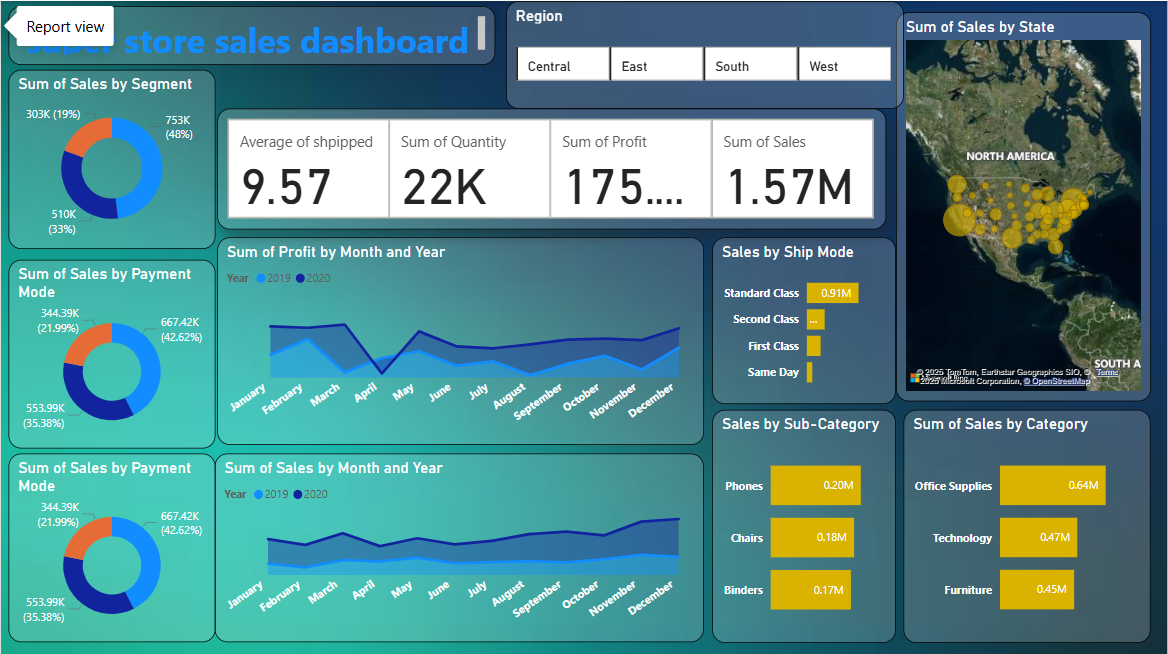

The page's visual inventory and layout, read from the dashboard file:
{"tool":"powerbi","page":{"name":"Page 1","canvas":[1280,720],"ordinal":0},"visuals":[{"type":"clusteredBarChart","title":"Sales by Sub-Category","fields":{"Category":["SuperStore_Sales_Dataset.Sub-Category"],"Y":["Sum(SuperStore_Sales_Dataset.Sales)"]},"box":[780.6,448.8,201.5,255.8],"z":0},{"type":"clusteredBarChart","fields":{"Y":["Sum(SuperStore_Sales_Dataset.Sales)"],"Category":["SuperStore_Sales_Dataset.Category"]},"box":[990.5,448.8,271.4,255.8],"z":1000},{"type":"donutChart","fields":{"Y":["Sum(SuperStore_Sales_Dataset.Sales)"],"Category":["SuperStore_Sales_Dataset.Segment"]},"box":[8.4,74.8,226.8,196.6],"z":2000},{"type":"clusteredBarChart","title":"Sales by Ship Mode","fields":{"Y":["Sum(SuperStore_Sales_Dataset.Sales)"],"Category":["SuperStore_Sales_Dataset.Ship Mode"]},"box":[780.6,259.4,201.5,183.4],"z":3000},{"type":"donutChart","fields":{"Y":["Sum(SuperStore_Sales_Dataset.Sales)"],"Category":["SuperStore_Sales_Dataset.Payment Mode"]},"box":[8.4,283.5,226.8,207.5],"z":4000},{"type":"map","fields":{"Category":["SuperStore_Sales_Dataset.State"],"Size":["Sum(SuperStore_Sales_Dataset.Sales)"]},"box":[982,12.1,279.9,427.1],"z":5000},{"type":"advancedSlicerVisual","fields":{"Values":["SuperStore_Sales_Dataset.Region"]},"box":[553.8,0,436.7,118.2],"z":6000},{"type":"stackedAreaChart","fields":{"Y":["Sum(SuperStore_Sales_Dataset.Sales)"],"Category":["SuperStore_Sales_Dataset.Order Date.Variation.Date Hierarchy.Month","SuperStore_Sales_Dataset.Order Date.Variation.Date Hierarchy.Day"],"Series":["SuperStore_Sales_Dataset.Order Date.Variation.Date Hierarchy.Year"]},"box":[235.3,497.1,536.9,207.5],"z":7000},{"type":"stackedAreaChart","fields":{"Category":["SuperStore_Sales_Dataset.Order Date.Variation.Date Hierarchy.Month","SuperStore_Sales_Dataset.Order Date.Variation.Date Hierarchy.Day"],"Series":["SuperStore_Sales_Dataset.Order Date.Variation.Date Hierarchy.Year"],"Y":["Sum(SuperStore_Sales_Dataset.Profit)"]},"box":[237.7,259.4,534.5,228],"z":8000},{"type":"cardVisual","fields":{"Data":["Avg(SuperStore_Sales_Dataset.shpipped)","Sum(SuperStore_Sales_Dataset.Quantity)","Sum(SuperStore_Sales_Dataset.Profit)","Sum(SuperStore_Sales_Dataset.Sales)"]},"box":[237.7,118.2,734.7,132.7],"z":12000},{"type":"textbox","box":[8.4,6,534.5,65.1],"z":13000},{"type":"donutChart","fields":{"Y":["Sum(SuperStore_Sales_Dataset.Sales)"],"Category":["SuperStore_Sales_Dataset.Payment Mode"]},"box":[8.4,497.1,226.8,207.5],"z":14000}]}

Visuals, with their boxes on the page's 1280x720 design canvas (x1, y1, x2, y2). These are canvas units, not pixel positions in the 1168x654 screenshot, which may show the page scaled, cropped or inside an application window:
"Sales by Sub-Category" clusteredBarChart: 781 449 982 705
clusteredBarChart - Sum(SuperStore_Sales_Dataset.Sales) x SuperStore_Sales_Dataset.Category: 990 449 1262 705
donutChart - Sum(SuperStore_Sales_Dataset.Sales) x SuperStore_Sales_Dataset.Segment: 8 75 235 271
"Sales by Ship Mode" clusteredBarChart: 781 259 982 443
donutChart - Sum(SuperStore_Sales_Dataset.Sales) x SuperStore_Sales_Dataset.Payment Mode: 8 284 235 491
map - SuperStore_Sales_Dataset.State x Sum(SuperStore_Sales_Dataset.Sales): 982 12 1262 439
advancedSlicerVisual - SuperStore_Sales_Dataset.Region: 554 0 990 118
stackedAreaChart - Sum(SuperStore_Sales_Dataset.Sales) x SuperStore_Sales_Dataset.Order Date.Variation.Date Hierarchy.Month: 235 497 772 705
stackedAreaChart - SuperStore_Sales_Dataset.Order Date.Variation.Date Hierarchy.Month x SuperStore_Sales_Dataset.Order Date.Variation.Date Hierarchy.Day: 238 259 772 487
cardVisual - Avg(SuperStore_Sales_Dataset.shpipped) x Sum(SuperStore_Sales_Dataset.Quantity): 238 118 972 251
textbox: 8 6 543 71
donutChart - Sum(SuperStore_Sales_Dataset.Sales) x SuperStore_Sales_Dataset.Payment Mode: 8 497 235 705
